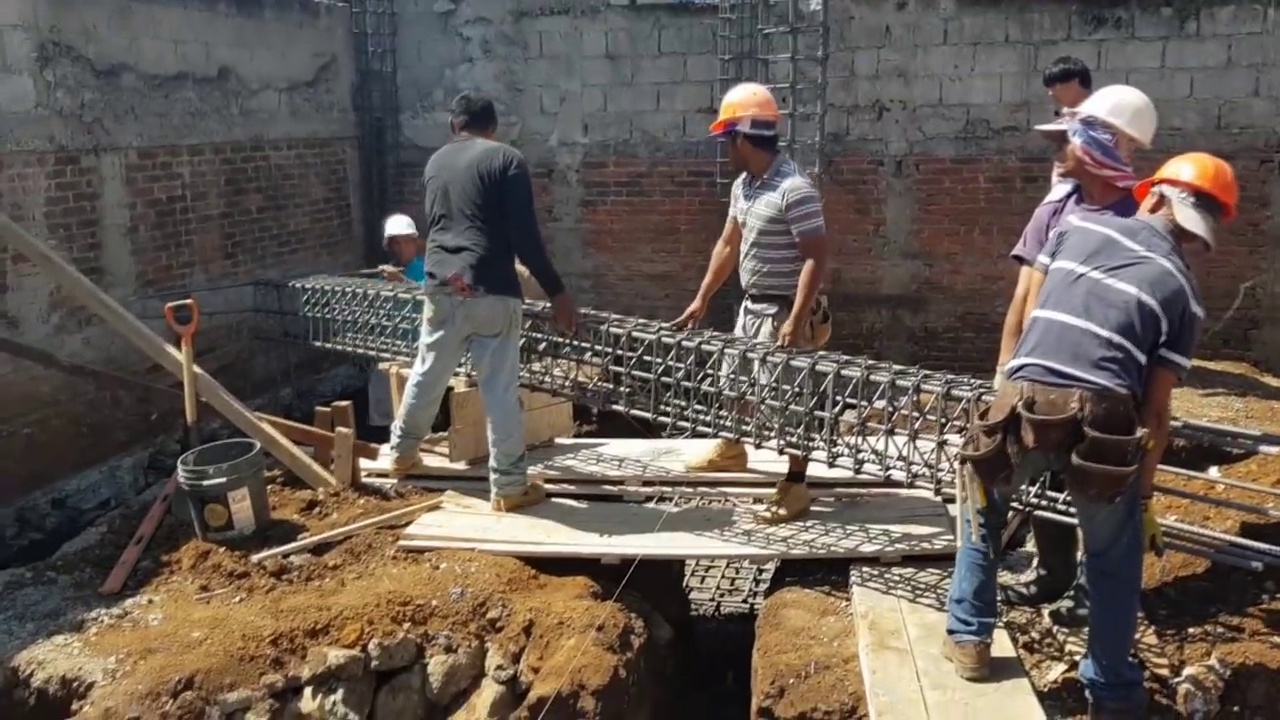helmet: (1143, 152, 1237, 229), (1086, 83, 1159, 150), (708, 85, 790, 138), (379, 213, 421, 245)
helmet-off: (1047, 53, 1098, 112), (445, 92, 496, 144)
helmet-on: (1047, 83, 1161, 218), (1123, 151, 1239, 257), (707, 83, 786, 180), (379, 212, 421, 272)
person: (939, 157, 1248, 695), (384, 100, 572, 520), (681, 79, 824, 499), (1002, 81, 1161, 403), (1046, 50, 1099, 187)
